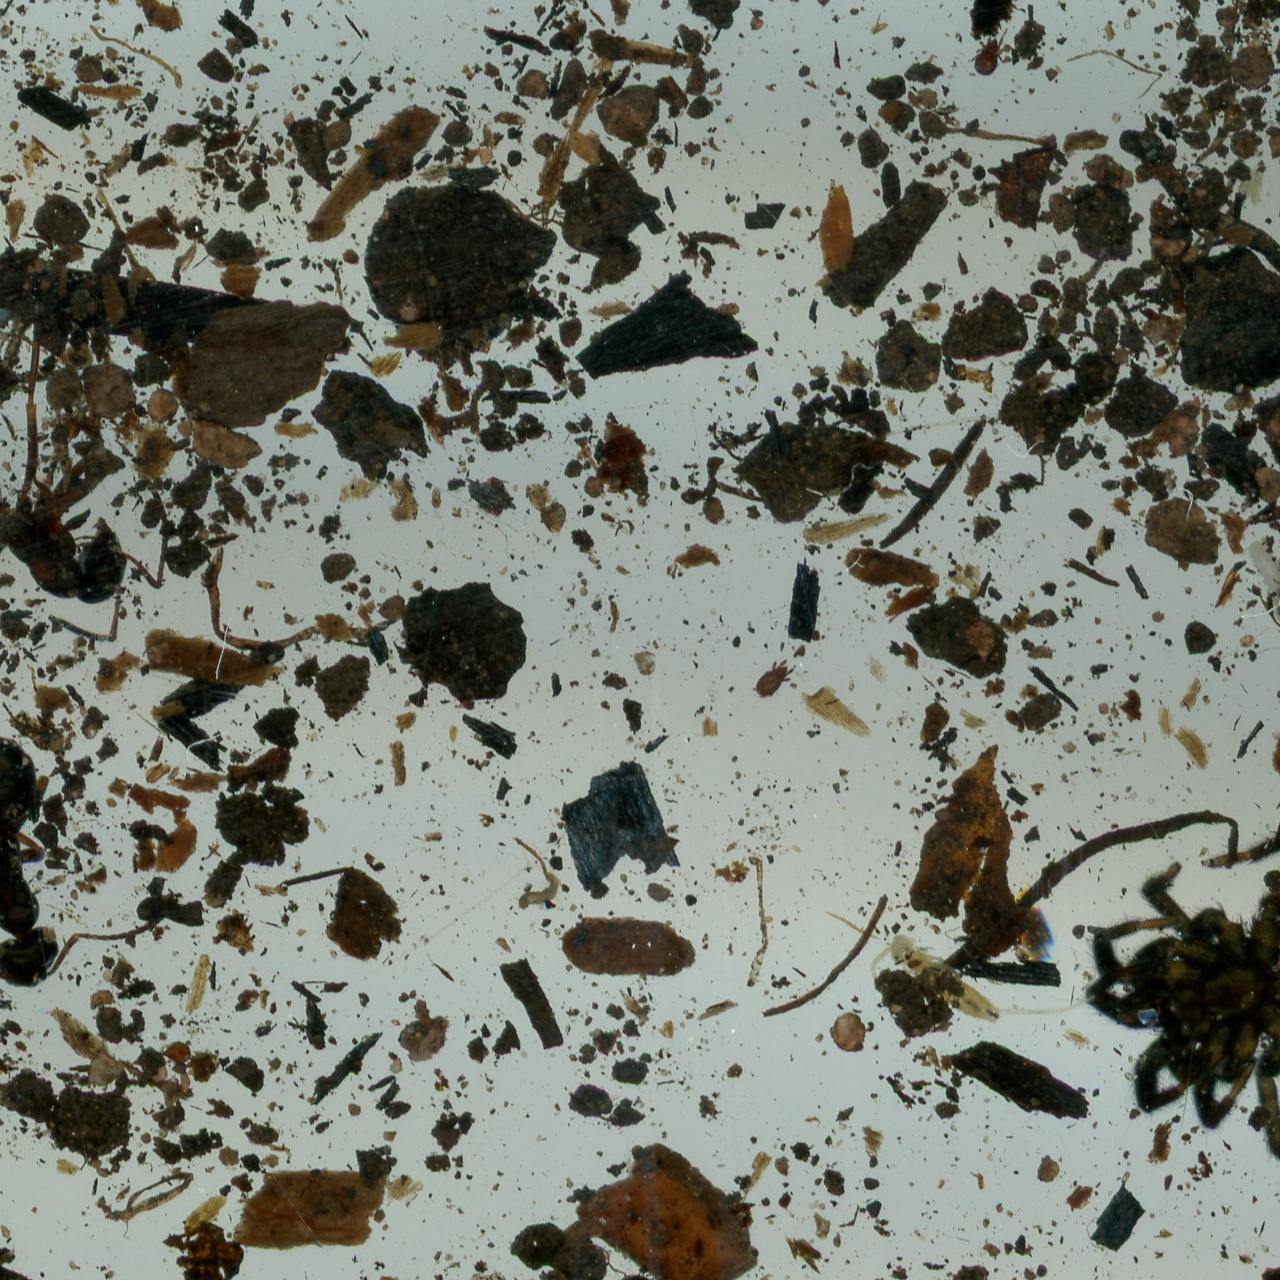arthropod: (1034, 776, 1280, 1237), (867, 930, 1096, 1035), (1242, 534, 1280, 636)
